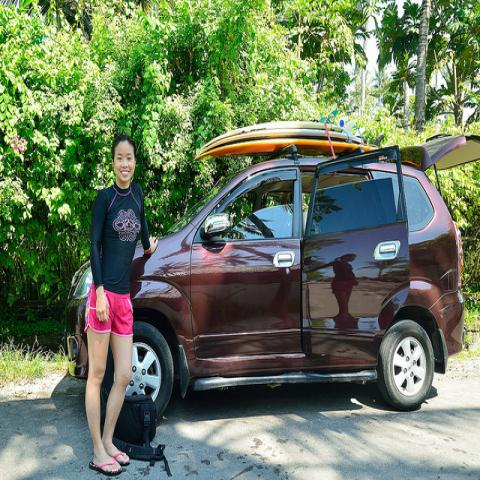car: (64, 133, 480, 421)
